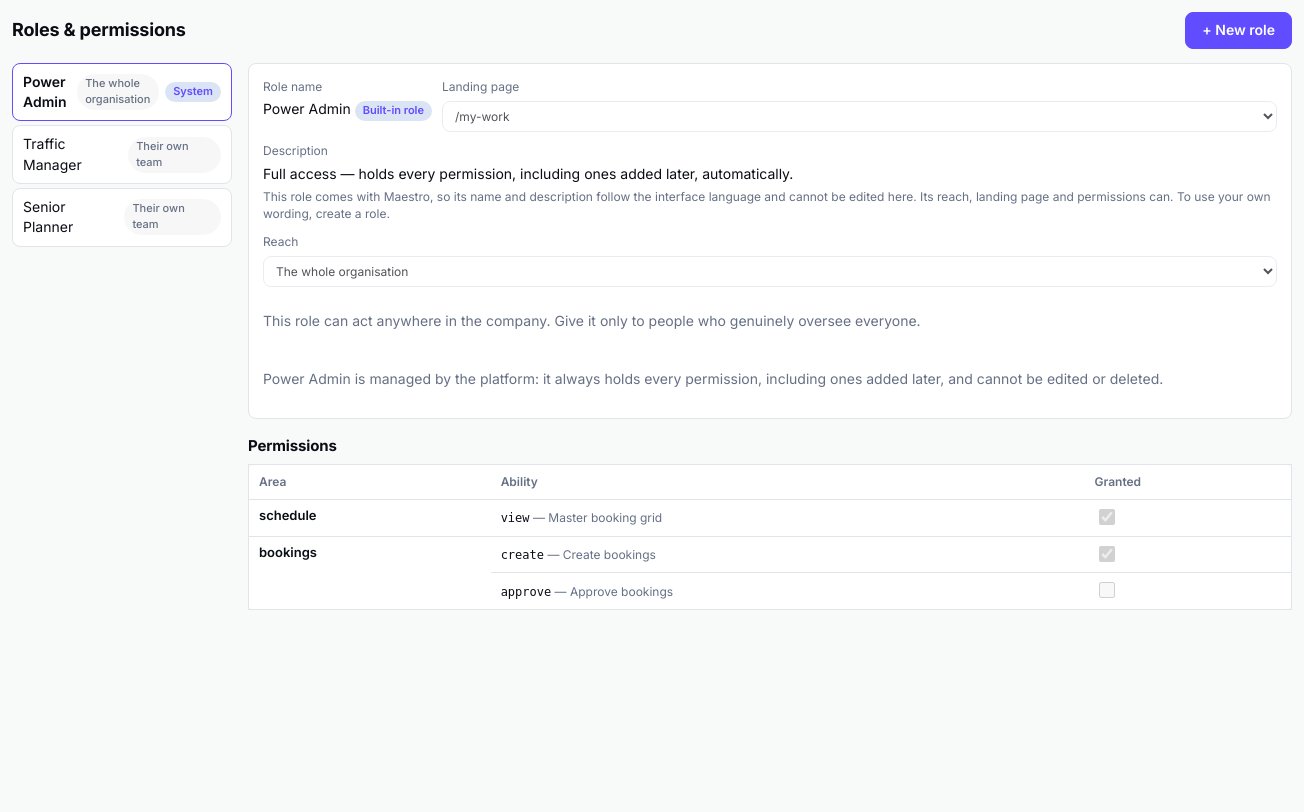
RolesPage (L1.11) › a built-in role shows the app words, not the row values, with no field to change them
Click the button with test id "role-item-scheduler".
click(122, 155)  # box [12,125,232,184]
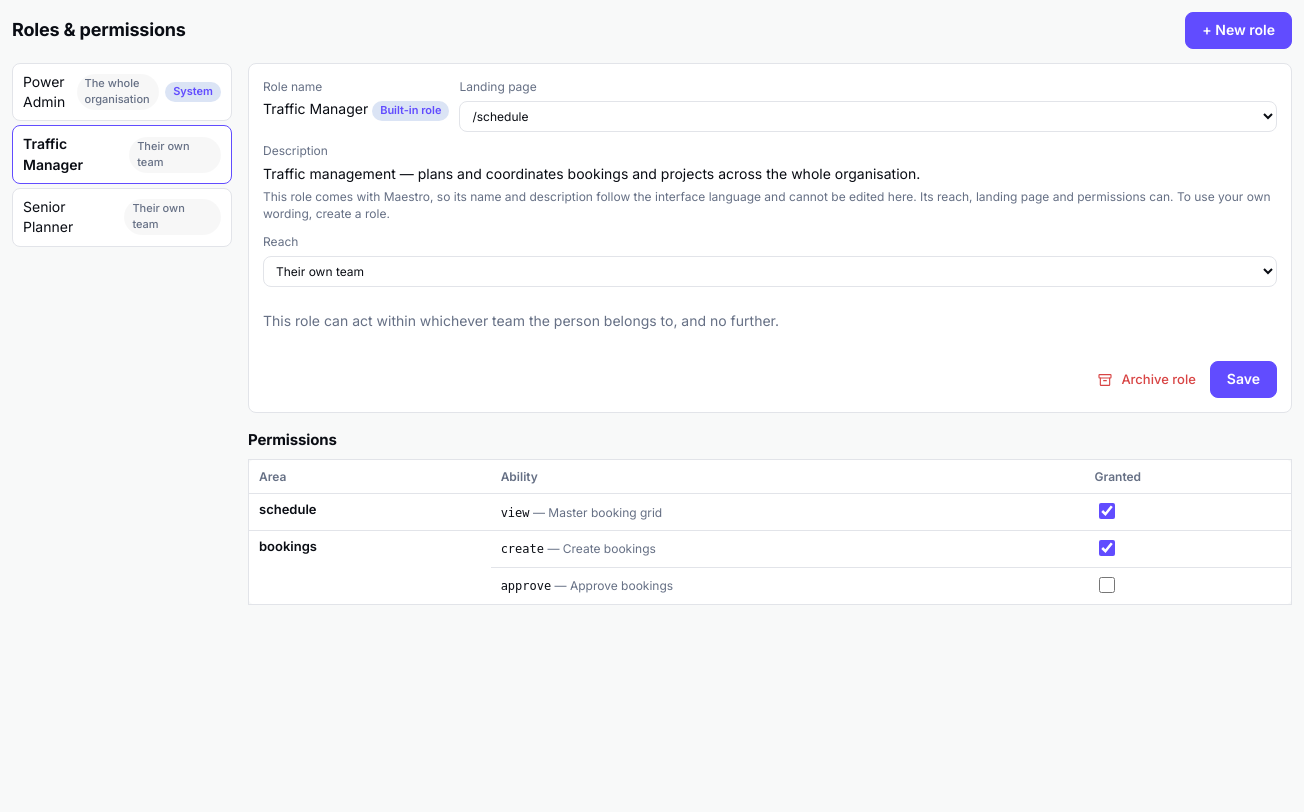
Expected: the text with test id "role-builtin-note" is shown, [263,188,1277,223]
Now the element with test id "role-name-fixed" shows "Traffic Manager", box [263,100,368,117]
Now the text with test id "role-description-fixed" shows "Traffic management", box [263,165,920,182]
